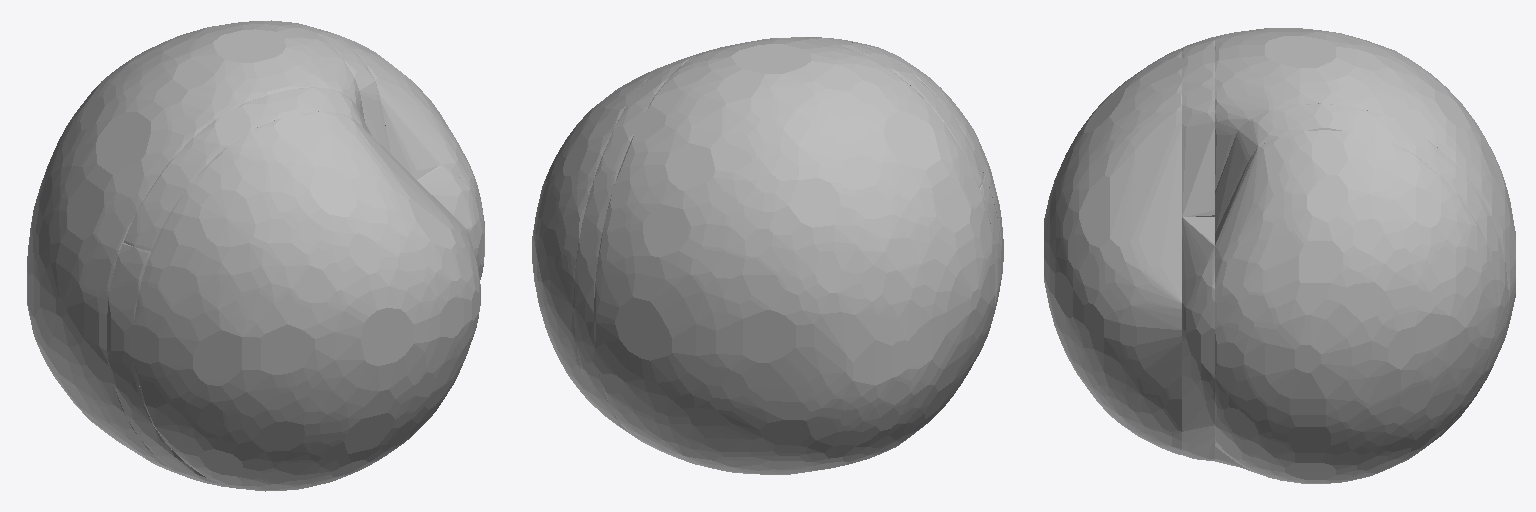
URDF robot description (root):
<robot name="root">
  <link name="link_coacd_convex_piece_0">
    <inertial>
      <origin xyz="0 0 0" rpy="0 0 0"/>
      <inertia ixx="5.45E-01" ixy="5.37E-02" ixz="-6.57E-03" iyy="5.33E-01" iyz="3.31E-03" izz="4.69E-01"/>
    </inertial>
    <visual>
      <origin xyz="0 0 0" rpy="0 0 0"/>
      <geometry>
        <mesh filename="coacd_convex_piece_0.obj" scale="1.0000E+00 1.0000E+00 1.0000E+00"/>
      </geometry>
      <material name="">
        <color rgba="7.50E-01 7.50E-01 7.50E-01 1"/>
      </material>
    </visual>
    <collision>
      <origin xyz="0 0 0" rpy="0 0 0"/>
      <geometry>
        <mesh filename="coacd_convex_piece_0.obj" scale="1.0000E+00 1.0000E+00 1.0000E+00"/>
      </geometry>
    </collision>
  </link>
  <link name="link_coacd_convex_piece_1">
    <inertial>
      <origin xyz="0 0 0" rpy="0 0 0"/>
      <inertia ixx="2.82E-01" ixy="-2.16E-02" ixz="3.02E-03" iyy="1.32E-01" iyz="-1.30E-02" izz="2.76E-01"/>
    </inertial>
    <visual>
      <origin xyz="0 0 0" rpy="0 0 0"/>
      <geometry>
        <mesh filename="coacd_convex_piece_1.obj" scale="1.0000E+00 1.0000E+00 1.0000E+00"/>
      </geometry>
      <material name="">
        <color rgba="7.50E-01 7.50E-01 7.50E-01 1"/>
      </material>
    </visual>
    <collision>
      <origin xyz="0 0 0" rpy="0 0 0"/>
      <geometry>
        <mesh filename="coacd_convex_piece_1.obj" scale="1.0000E+00 1.0000E+00 1.0000E+00"/>
      </geometry>
    </collision>
  </link>
  <joint name="link_coacd_convex_piece_1_joint" type="fixed">
    <origin xyz="0 0 0" rpy="0 0 0"/>
    <parent link="link_coacd_convex_piece_0"/>
    <child link="link_coacd_convex_piece_1"/>
  </joint>
  <link name="link_coacd_convex_piece_2">
    <inertial>
      <origin xyz="0 0 0" rpy="0 0 0"/>
      <inertia ixx="9.25E-02" ixy="-5.25E-02" ixz="8.77E-03" iyy="2.13E-01" iyz="6.56E-04" izz="2.13E-01"/>
    </inertial>
    <visual>
      <origin xyz="0 0 0" rpy="0 0 0"/>
      <geometry>
        <mesh filename="coacd_convex_piece_2.obj" scale="1.0000E+00 1.0000E+00 1.0000E+00"/>
      </geometry>
      <material name="">
        <color rgba="7.50E-01 7.50E-01 7.50E-01 1"/>
      </material>
    </visual>
    <collision>
      <origin xyz="0 0 0" rpy="0 0 0"/>
      <geometry>
        <mesh filename="coacd_convex_piece_2.obj" scale="1.0000E+00 1.0000E+00 1.0000E+00"/>
      </geometry>
    </collision>
  </link>
  <joint name="link_coacd_convex_piece_2_joint" type="fixed">
    <origin xyz="0 0 0" rpy="0 0 0"/>
    <parent link="link_coacd_convex_piece_1"/>
    <child link="link_coacd_convex_piece_2"/>
  </joint>
  <link name="link_coacd_convex_piece_3">
    <inertial>
      <origin xyz="0 0 0" rpy="0 0 0"/>
      <inertia ixx="5.65E-02" ixy="-1.73E-02" ixz="1.87E-03" iyy="5.40E-02" iyz="2.67E-04" izz="5.17E-02"/>
    </inertial>
    <visual>
      <origin xyz="0 0 0" rpy="0 0 0"/>
      <geometry>
        <mesh filename="coacd_convex_piece_3.obj" scale="1.0000E+00 1.0000E+00 1.0000E+00"/>
      </geometry>
      <material name="">
        <color rgba="7.50E-01 7.50E-01 7.50E-01 1"/>
      </material>
    </visual>
    <collision>
      <origin xyz="0 0 0" rpy="0 0 0"/>
      <geometry>
        <mesh filename="coacd_convex_piece_3.obj" scale="1.0000E+00 1.0000E+00 1.0000E+00"/>
      </geometry>
    </collision>
  </link>
  <joint name="link_coacd_convex_piece_3_joint" type="fixed">
    <origin xyz="0 0 0" rpy="0 0 0"/>
    <parent link="link_coacd_convex_piece_2"/>
    <child link="link_coacd_convex_piece_3"/>
  </joint>
  <link name="link_coacd_convex_piece_4">
    <inertial>
      <origin xyz="0 0 0" rpy="0 0 0"/>
      <inertia ixx="2.00E-02" ixy="-2.81E-03" ixz="4.50E-03" iyy="2.01E-02" iyz="8.42E-03" izz="1.02E-02"/>
    </inertial>
    <visual>
      <origin xyz="0 0 0" rpy="0 0 0"/>
      <geometry>
        <mesh filename="coacd_convex_piece_4.obj" scale="1.0000E+00 1.0000E+00 1.0000E+00"/>
      </geometry>
      <material name="">
        <color rgba="7.50E-01 7.50E-01 7.50E-01 1"/>
      </material>
    </visual>
    <collision>
      <origin xyz="0 0 0" rpy="0 0 0"/>
      <geometry>
        <mesh filename="coacd_convex_piece_4.obj" scale="1.0000E+00 1.0000E+00 1.0000E+00"/>
      </geometry>
    </collision>
  </link>
  <joint name="link_coacd_convex_piece_4_joint" type="fixed">
    <origin xyz="0 0 0" rpy="0 0 0"/>
    <parent link="link_coacd_convex_piece_3"/>
    <child link="link_coacd_convex_piece_4"/>
  </joint>
  <link name="link_coacd_convex_piece_5">
    <inertial>
      <origin xyz="0 0 0" rpy="0 0 0"/>
      <inertia ixx="4.70E-02" ixy="-4.11E-03" ixz="-2.33E-03" iyy="6.23E-02" iyz="-1.24E-02" izz="5.63E-02"/>
    </inertial>
    <visual>
      <origin xyz="0 0 0" rpy="0 0 0"/>
      <geometry>
        <mesh filename="coacd_convex_piece_5.obj" scale="1.0000E+00 1.0000E+00 1.0000E+00"/>
      </geometry>
      <material name="">
        <color rgba="7.50E-01 7.50E-01 7.50E-01 1"/>
      </material>
    </visual>
    <collision>
      <origin xyz="0 0 0" rpy="0 0 0"/>
      <geometry>
        <mesh filename="coacd_convex_piece_5.obj" scale="1.0000E+00 1.0000E+00 1.0000E+00"/>
      </geometry>
    </collision>
  </link>
  <joint name="link_coacd_convex_piece_5_joint" type="fixed">
    <origin xyz="0 0 0" rpy="0 0 0"/>
    <parent link="link_coacd_convex_piece_4"/>
    <child link="link_coacd_convex_piece_5"/>
  </joint>
</robot>

--- What the picture shows (computed from the rendered views, not written in the file) ---
3 views of the same robot in one strip: view 1: azimuth 30°, elevation 25°; view 2: azimuth 150°, elevation 25°; view 3: azimuth 270°, elevation 25° (orthographic).
Robot: root — 6 links, 5 joints (5 fixed); root link link_coacd_convex_piece_0; default pose: every joint at zero.
Visible links, largest first — view 1: link_coacd_convex_piece_1, link_coacd_convex_piece_0, link_coacd_convex_piece_5, link_coacd_convex_piece_4, link_coacd_convex_piece_2, link_coacd_convex_piece_3; view 2: link_coacd_convex_piece_0, link_coacd_convex_piece_2, link_coacd_convex_piece_3, link_coacd_convex_piece_4, link_coacd_convex_piece_1, link_coacd_convex_piece_5; view 3: link_coacd_convex_piece_2, link_coacd_convex_piece_1, link_coacd_convex_piece_0, link_coacd_convex_piece_3, link_coacd_convex_piece_5, link_coacd_convex_piece_4.
Link boxes in pixels (<box>): link_coacd_convex_piece_1: <box>134,111,480,491</box>; link_coacd_convex_piece_0: <box>27,20,364,478</box>; link_coacd_convex_piece_5: <box>107,166,483,487</box>; link_coacd_convex_piece_4: <box>124,87,371,251</box>; link_coacd_convex_piece_2: <box>330,32,484,256</box>; link_coacd_convex_piece_3: <box>291,22,390,153</box>; link_coacd_convex_piece_0: <box>594,38,994,474</box>; link_coacd_convex_piece_2: <box>532,65,665,416</box>; link_coacd_convex_piece_3: <box>573,51,706,437</box>; link_coacd_convex_piece_4: <box>791,37,983,187</box>; link_coacd_convex_piece_1: <box>832,38,1003,291</box>; link_coacd_convex_piece_5: <box>975,175,1001,360</box>; link_coacd_convex_piece_2: <box>1215,130,1498,483</box>; link_coacd_convex_piece_1: <box>1044,48,1181,454</box>; link_coacd_convex_piece_0: <box>1215,28,1515,466</box>; link_coacd_convex_piece_3: <box>1215,103,1508,480</box>; link_coacd_convex_piece_5: <box>1182,217,1214,460</box>; link_coacd_convex_piece_4: <box>1182,37,1214,216</box>.
Bounding box of the posed robot: 1.88 × 1.88 × 1.75 m (x, y, z).
6 mesh visuals loaded from 6 distinct referenced files (6 OBJ).